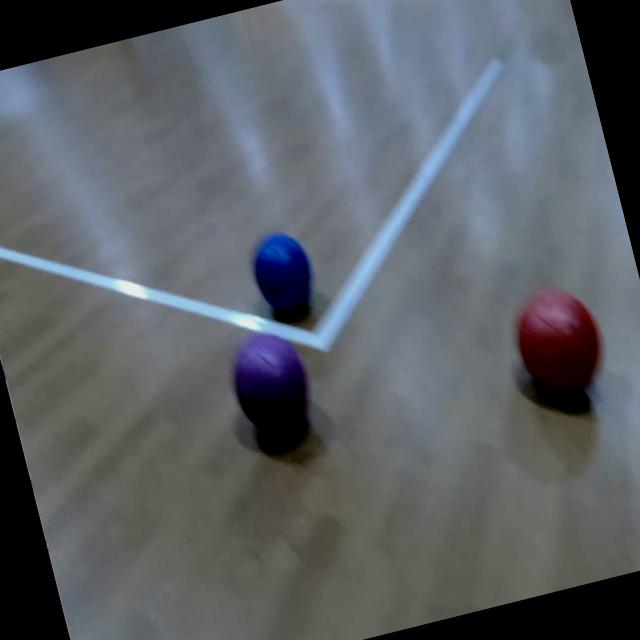blue_ball: (246, 226, 322, 320)
purple_ball: (223, 325, 318, 440)
red_ball: (506, 280, 610, 405)
